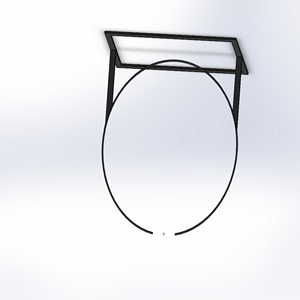circle: (98, 27, 250, 238)
